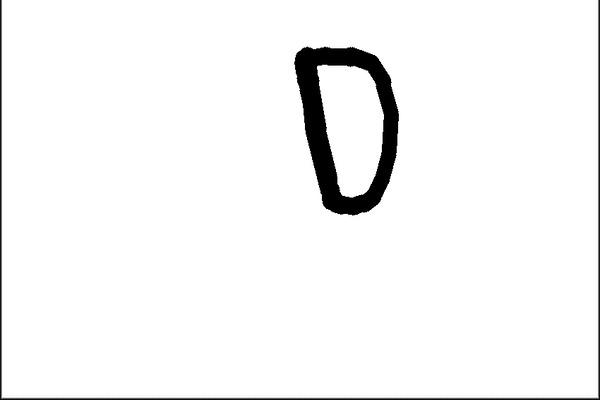D: (291, 42, 405, 219)
